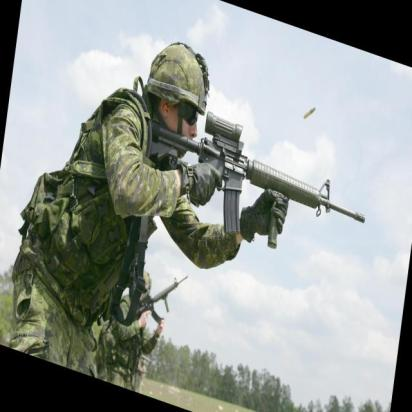Gun: (150, 108, 366, 243)
